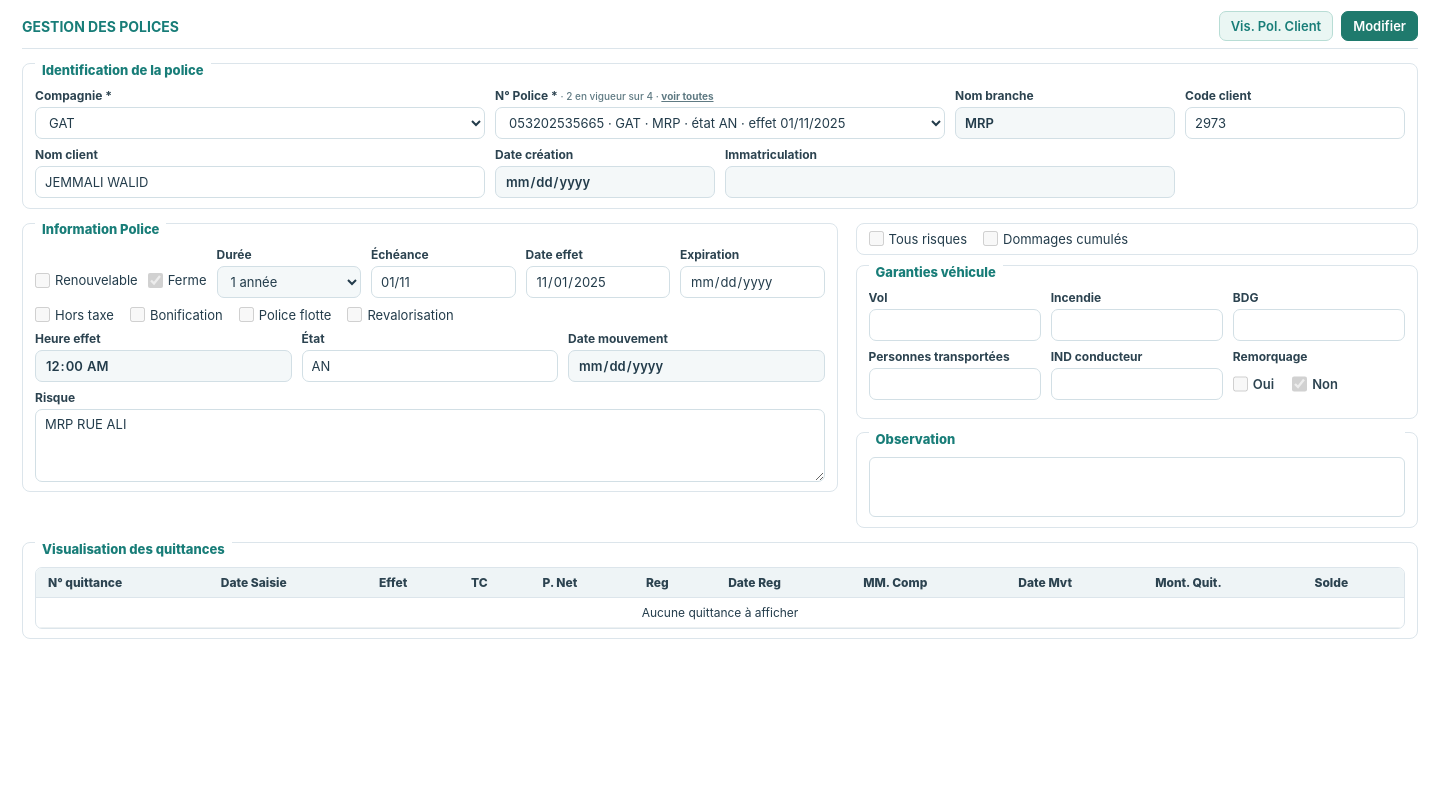
"Annuler" puts the police back as it was
expect the dropdown named "N° Police" shows "053202535665 · GAT · MRP · état AN · effet 01/11/2025": met, box [495, 107, 945, 139]
Click the button "Modifier" at {"x": 1380, "y": 26}, box [1341, 11, 1418, 41]
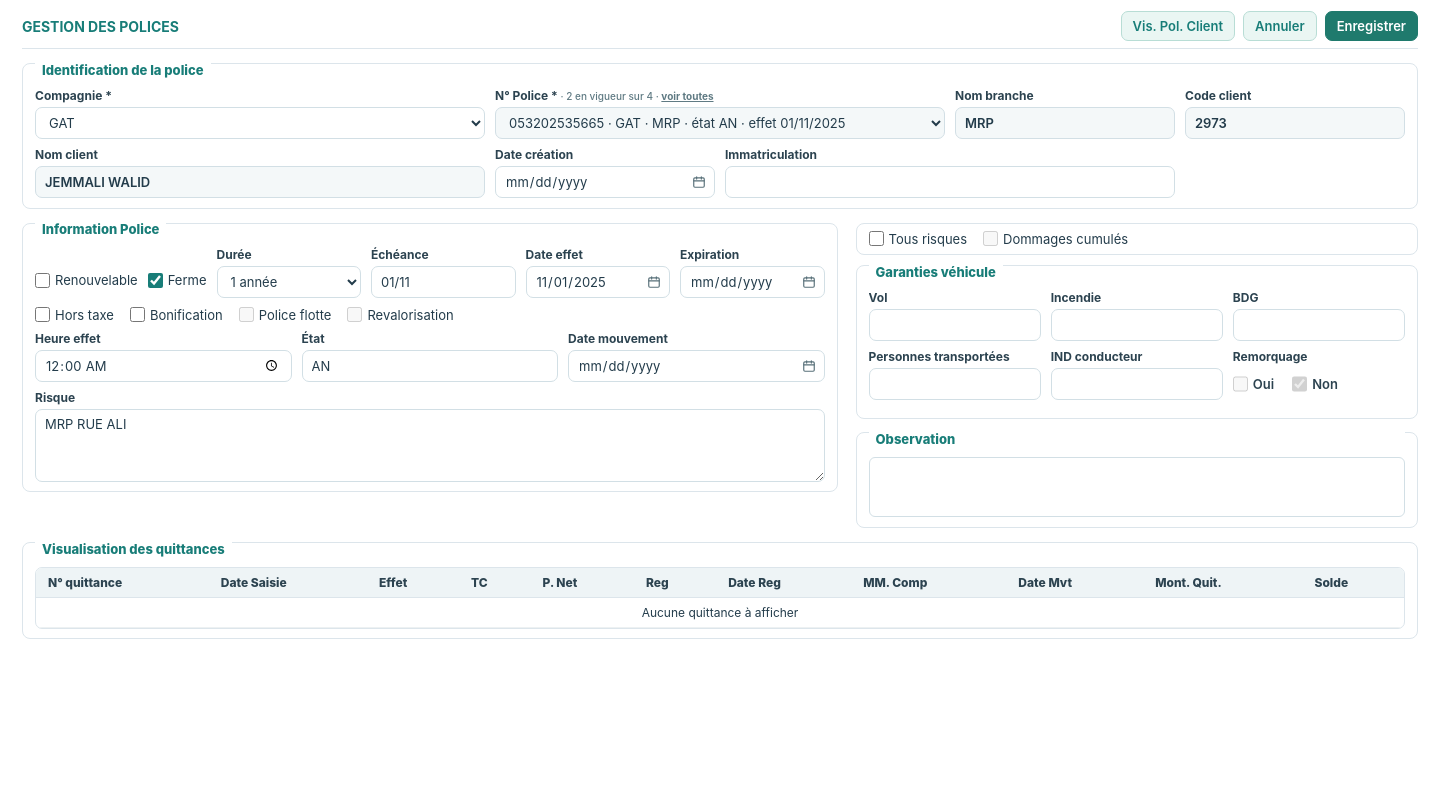
Replace the text in the text box showing "MRP RUE ALI" with "autre" at {"x": 430, "y": 445}, box [35, 409, 824, 482]
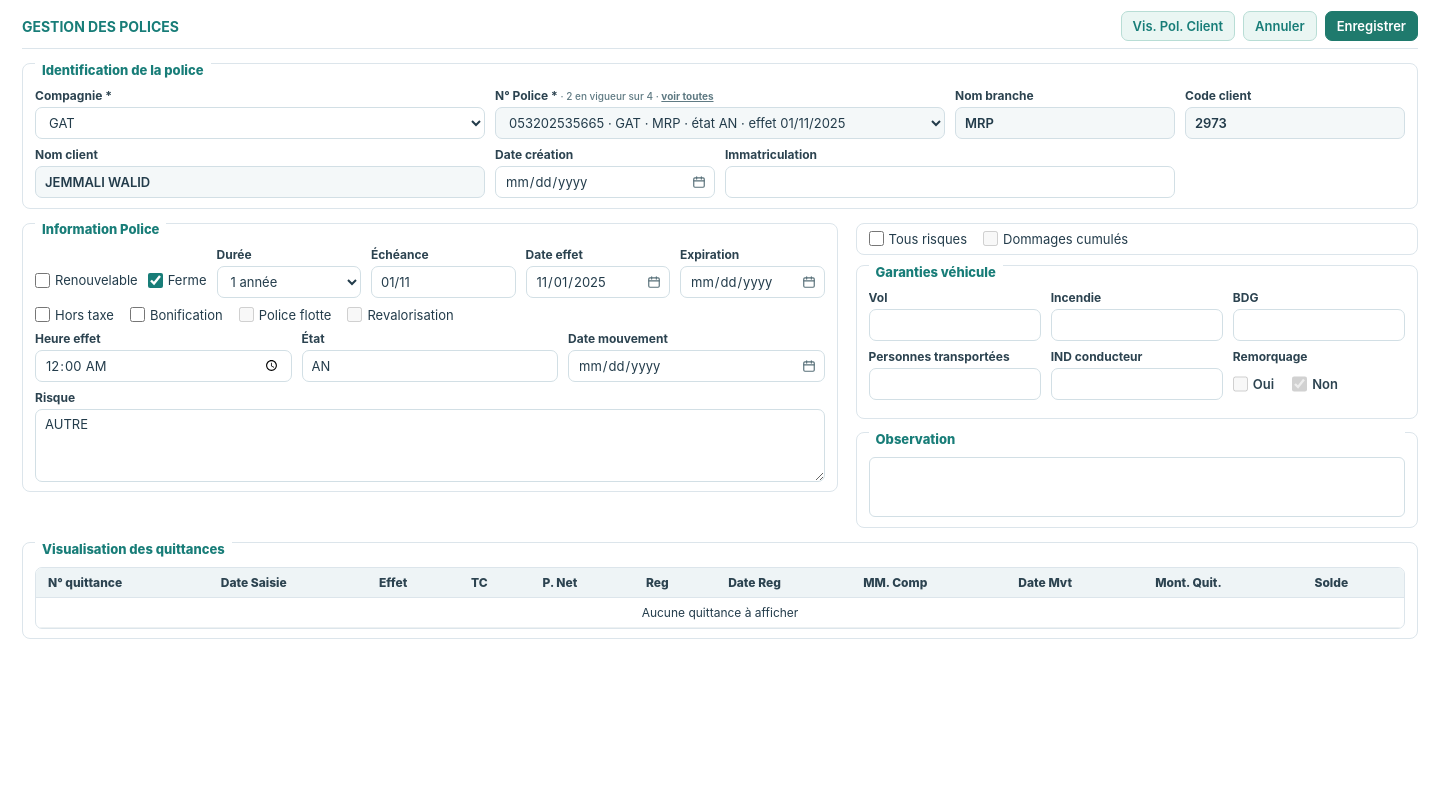
Click the button "Annuler" at {"x": 1280, "y": 26}, box [1243, 11, 1317, 41]
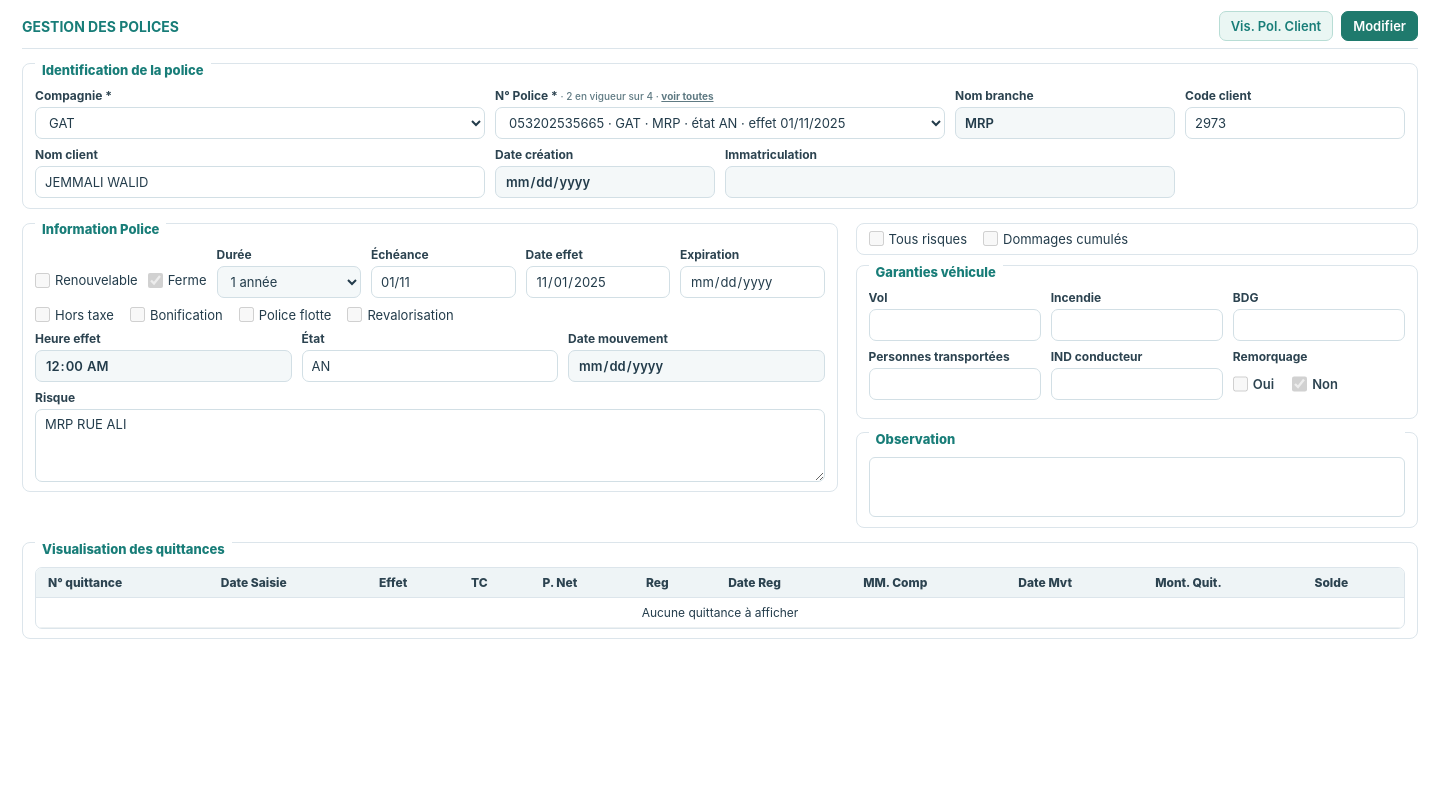
expect the text box showing "MRP RUE ALI" is shown: met, box [35, 409, 824, 482]
